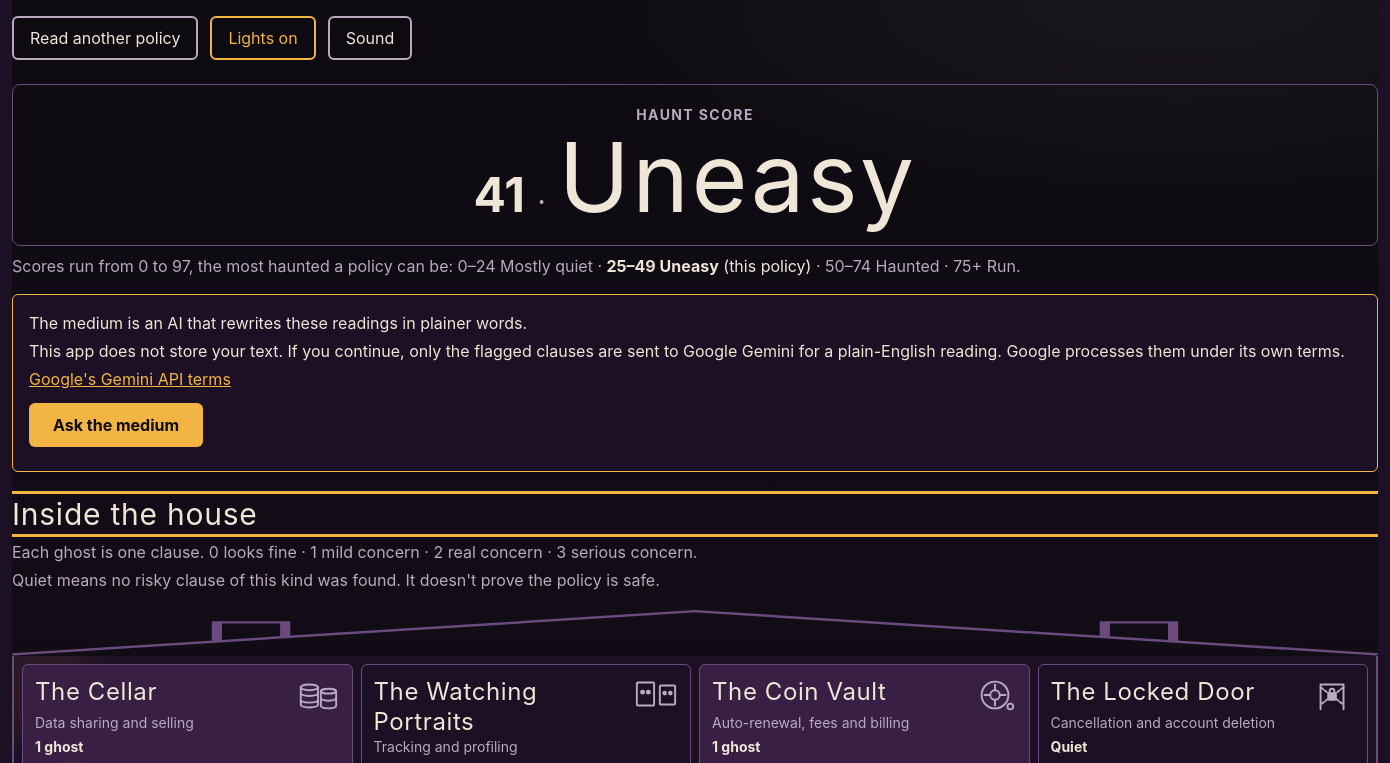
Test: OptInPanel (R14) › on timeout: keeps the rules, shows The medium took too long. Showing the rule reading., re-enabled true (R14.6)
The width and height of the screenshot is (1390, 763).
Click the button "Ask the medium": (116, 425) [29,403,203,447]
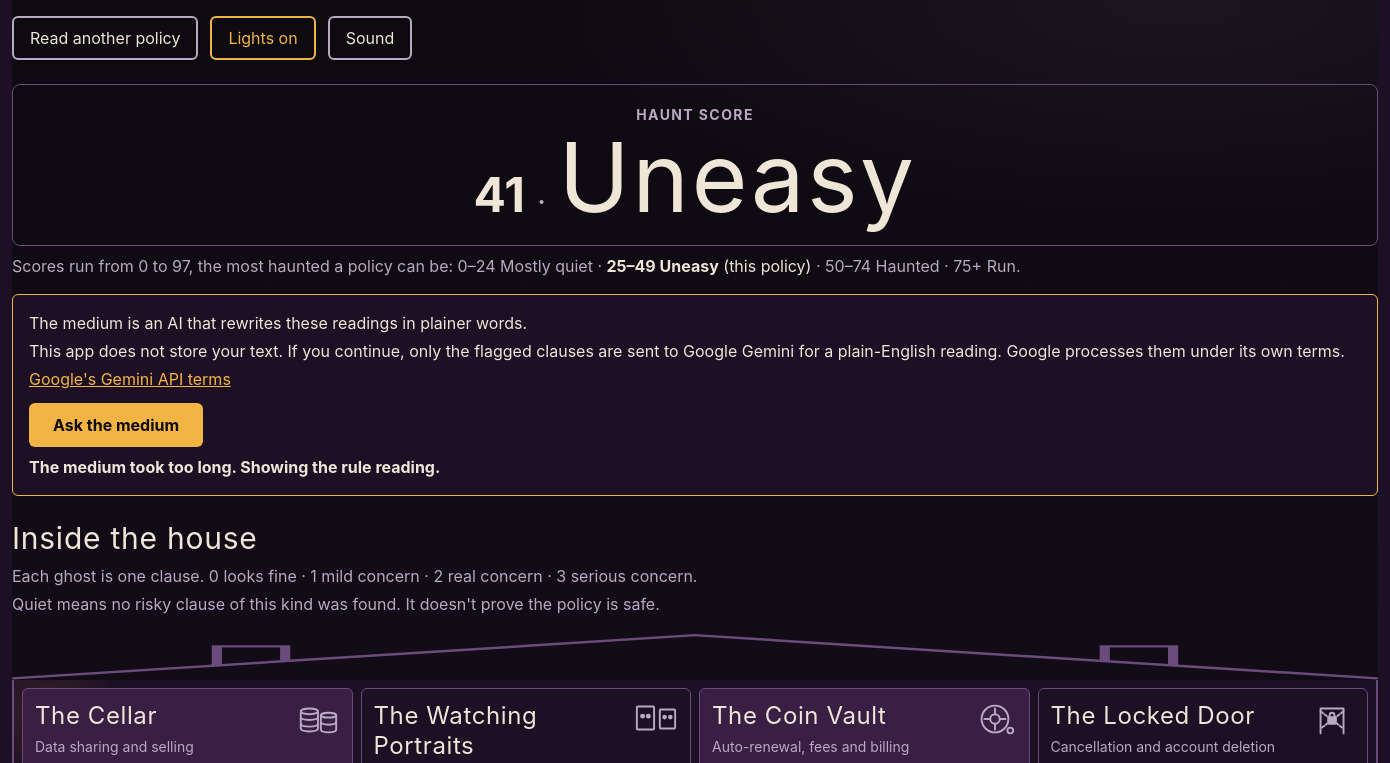
Expected: the text "The medium took too long. Showing the rule reading." is shown, [29,457,440,477]
